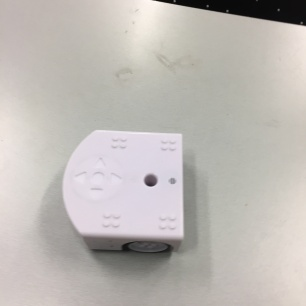thymio: (57, 121, 193, 261)
